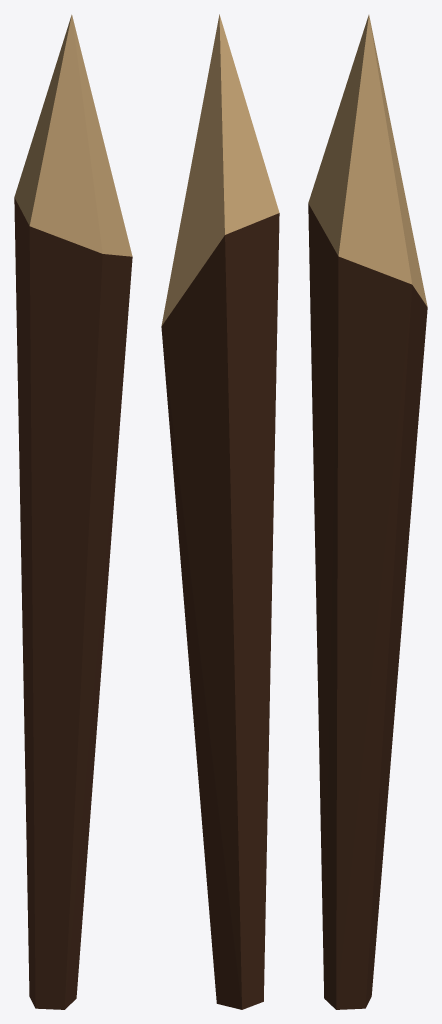
Rendered from WoodenSpike_2.fbx.
3 views of the same model, side by side, from view 1: azimuth 30°, elevation 25°; view 2: azimuth 150°, elevation 25°; view 3: azimuth 330°, elevation 25° (orthographic).
Visible parts, largest first — view 1: WoodenSpike_2; view 2: WoodenSpike_2; view 3: WoodenSpike_2.
Boxes of the visible parts, x1,y1,x2,y2 form: WoodenSpike_2: [14, 14, 132, 1009]; WoodenSpike_2: [161, 14, 279, 1009]; WoodenSpike_2: [308, 15, 427, 1009].
Bounding box in the file's own units: 8.91 × 81.15 × 8.47.
